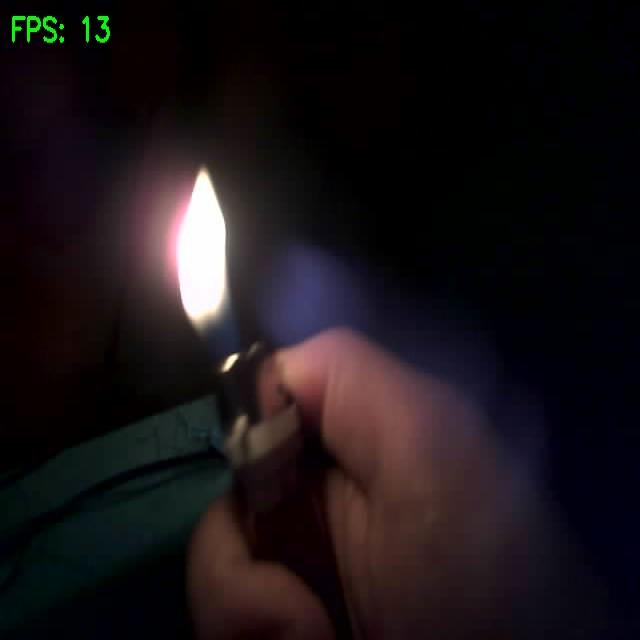fire: (177, 170, 226, 327)
